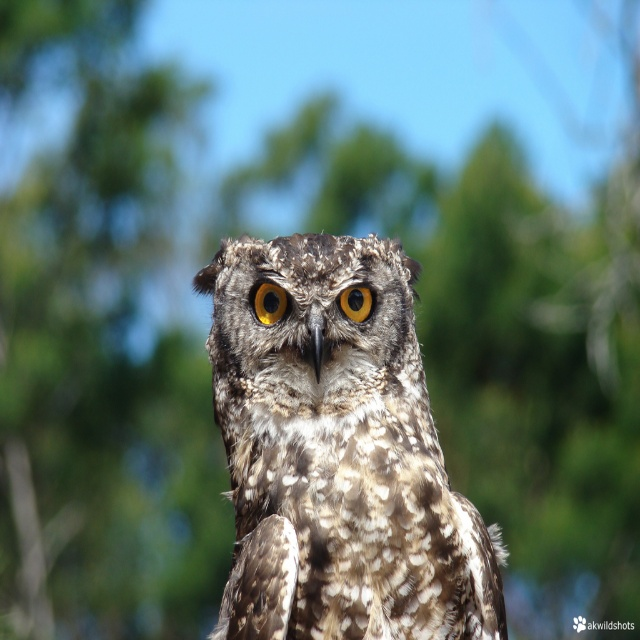Owl: (191, 237, 509, 639)
